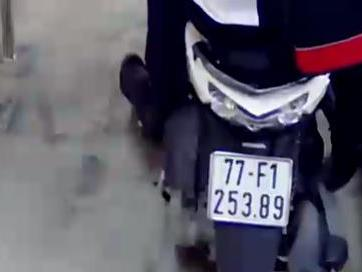num_plate: (208, 150, 294, 228)
